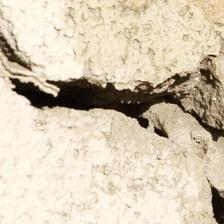Crack: (6, 40, 220, 152)
